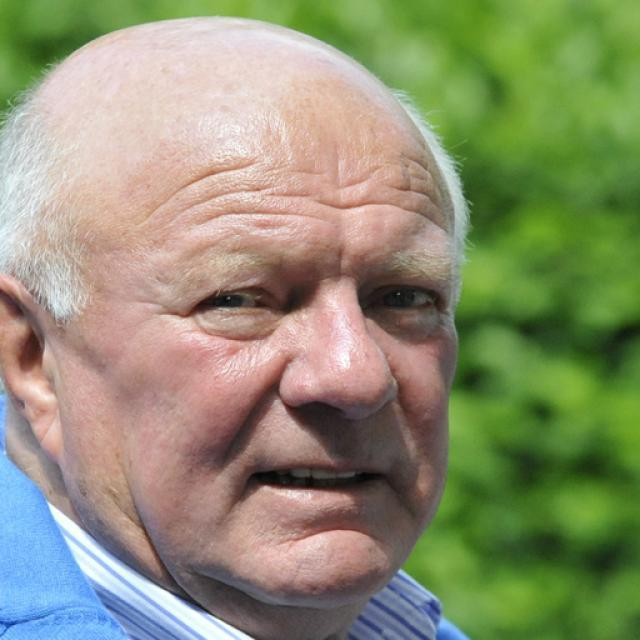0_rostro_limpio: (0, 17, 459, 604)
